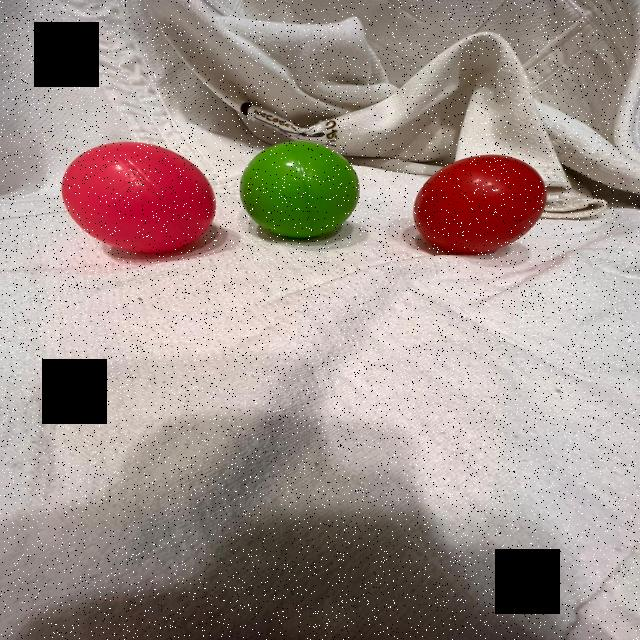ball: (60, 138, 218, 256), (414, 153, 550, 257), (237, 139, 363, 240)
